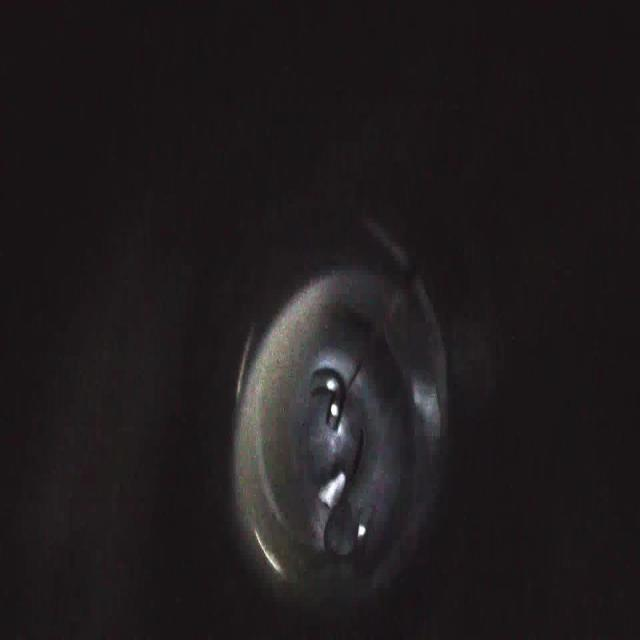impurity: (318, 507, 358, 563), (314, 468, 354, 508)
